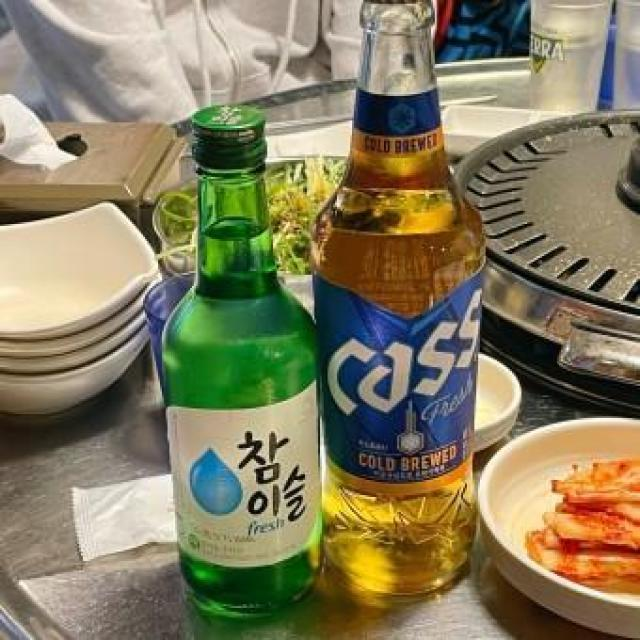beer-bottle: (310, 0, 493, 602)
soju-bottle: (164, 99, 334, 622)
